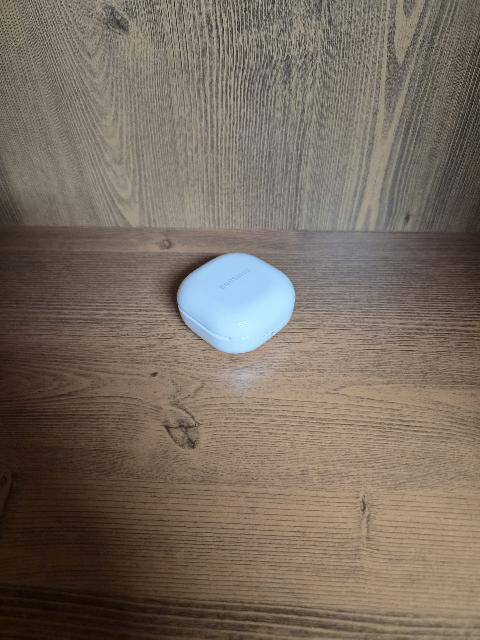earphone_case: (177, 253, 296, 354)
